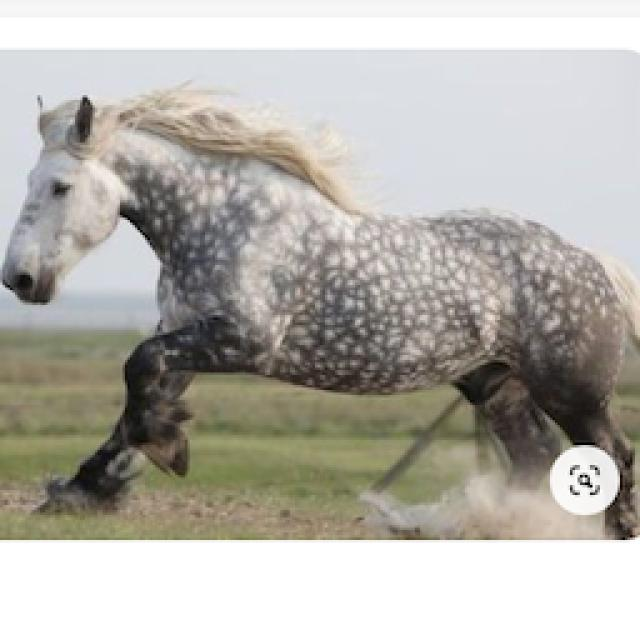Horse: (0, 78, 638, 540)
